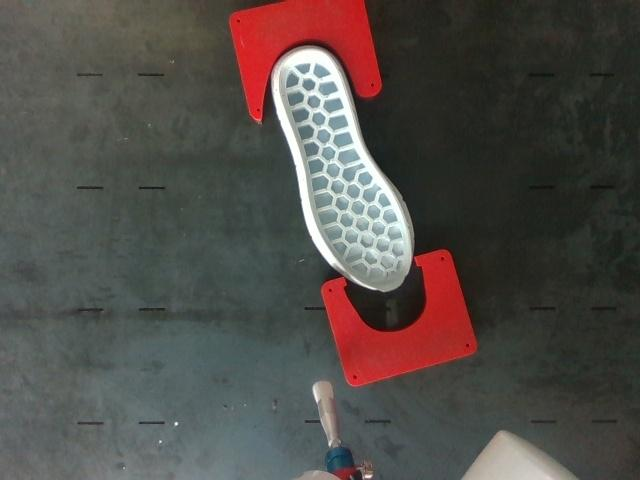shoes: (278, 48, 413, 291)
